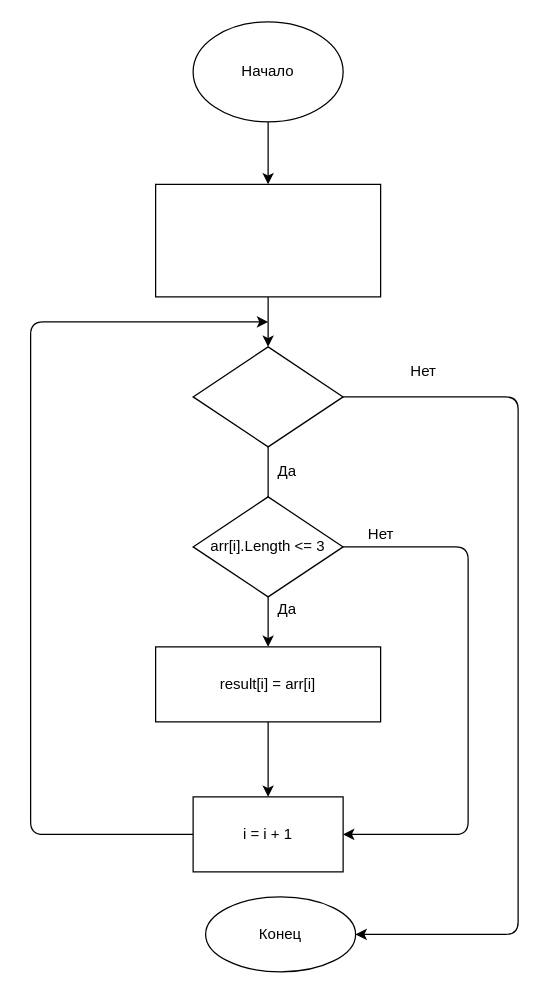
This 550x994 diagram has some shape labels left out. Here are the shapes that lost their labels. From the top down, the box of each, then its label:
(154, 183, 381, 297): arr = [] i = 0 m = length(arr) result = new array(length)
(192, 346, 343, 447): i < m
